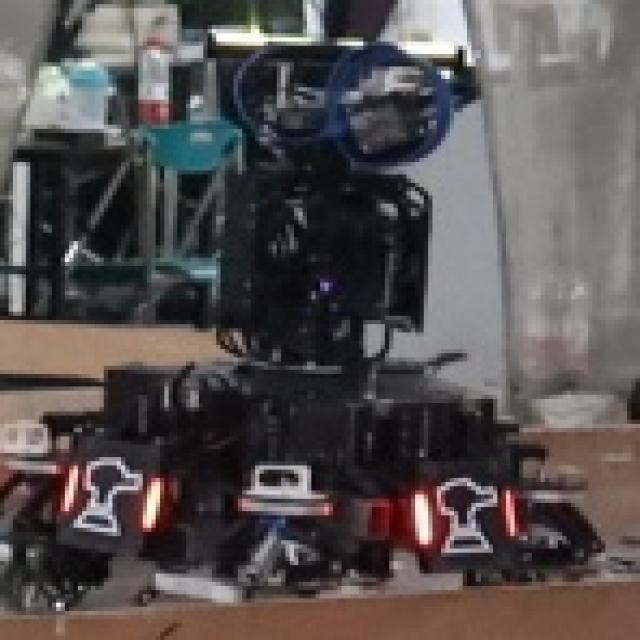Rs: (56, 441, 165, 548), (411, 457, 519, 561)
